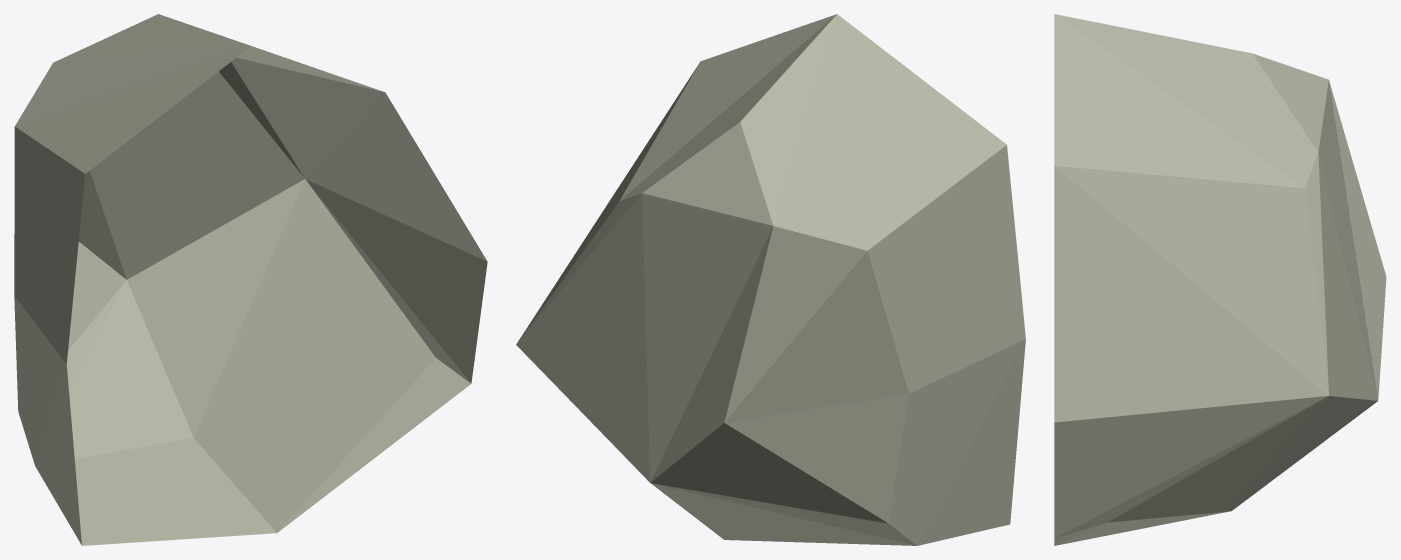
The model's file is Rock 01.FBX.
The picture shows the model from 3 angles, left to right: view 1: azimuth 30°, elevation 25°; view 2: azimuth 150°, elevation 25°; view 3: azimuth 270°, elevation 25°; orthographic projection. The views are drawn at different scales.
Visible parts, largest first — view 1: Rock 01; view 2: Rock 01; view 3: Rock 01.
Part boxes in pixels (left/top/right/bottom): Rock 01: left=14, top=14, right=487, bottom=545; Rock 01: left=516, top=14, right=1025, bottom=545; Rock 01: left=1054, top=14, right=1386, bottom=545.
Bounding box in the file's own units: 87.94 × 57.13 × 98.5.
